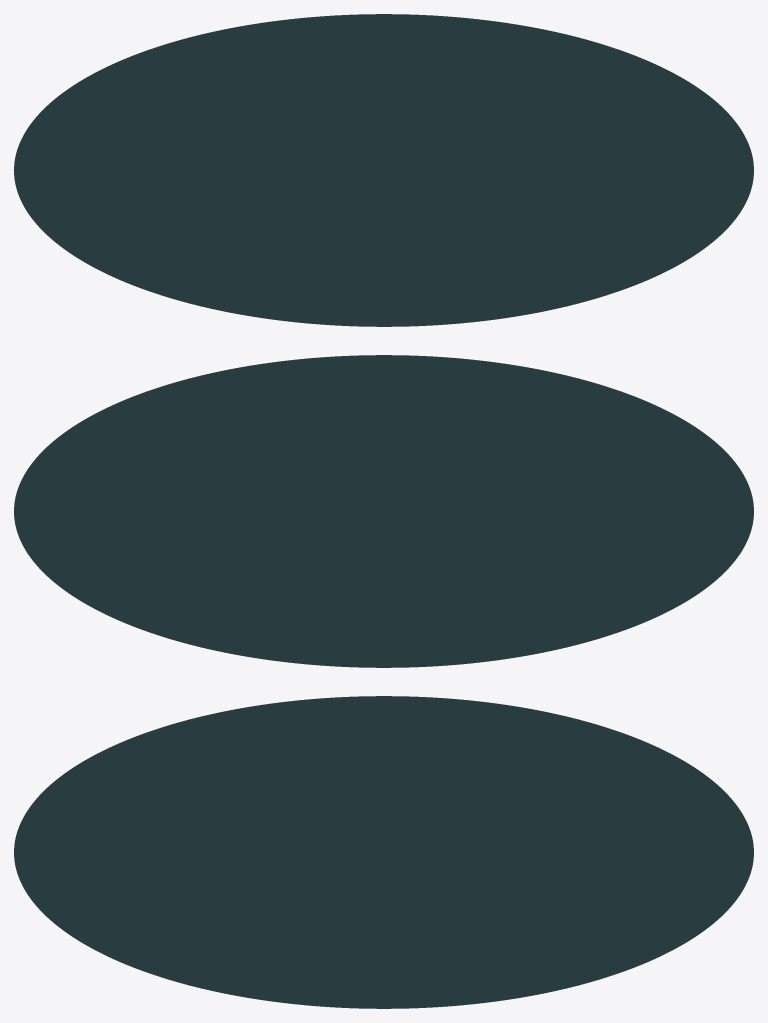
File: water.glb
3 renders of one model, top to bottom at view 1: azimuth 30°, elevation 25°; view 2: azimuth 150°, elevation 25°; view 3: azimuth 270°, elevation 25°, orthographic.
Visible parts, largest first — view 1: water; view 2: water; view 3: water.
Part boxes in pixels (<box>): water: <box>14,14,753,326</box>; water: <box>14,355,753,667</box>; water: <box>14,696,753,1008</box>.
Bounding box in the file's own units: 36000 × 27.47 × 36000.
